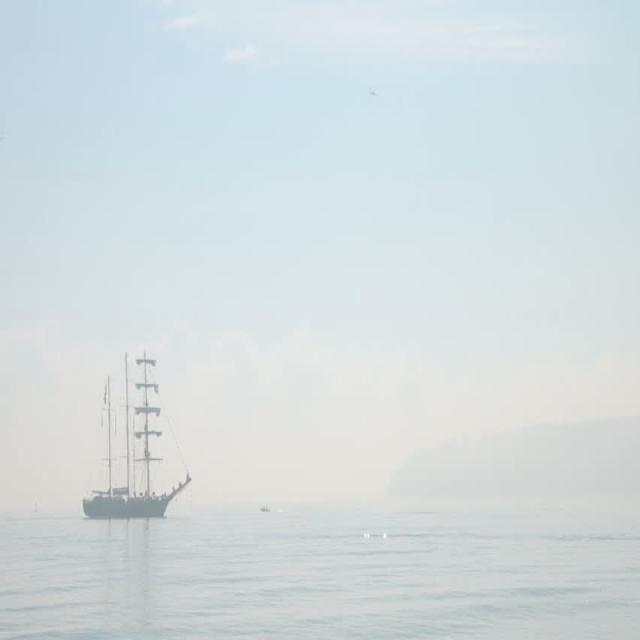fishing boat: (66, 340, 196, 524)
